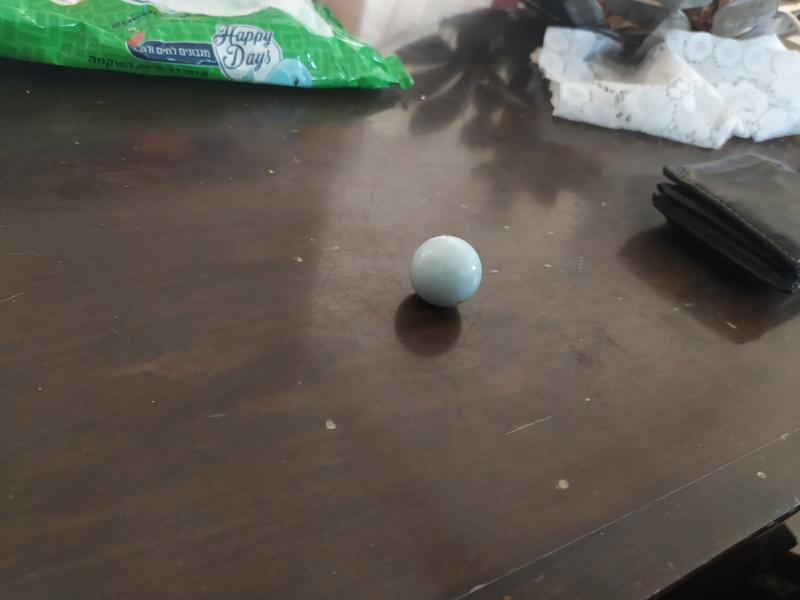Warning: (406, 231, 486, 311)
